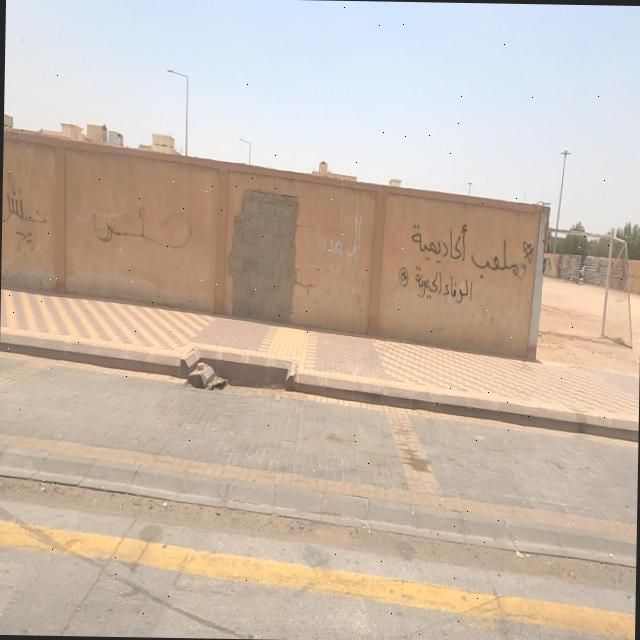Graffiti: (399, 222, 537, 304), (92, 203, 195, 251), (3, 168, 47, 256), (323, 205, 364, 261)
